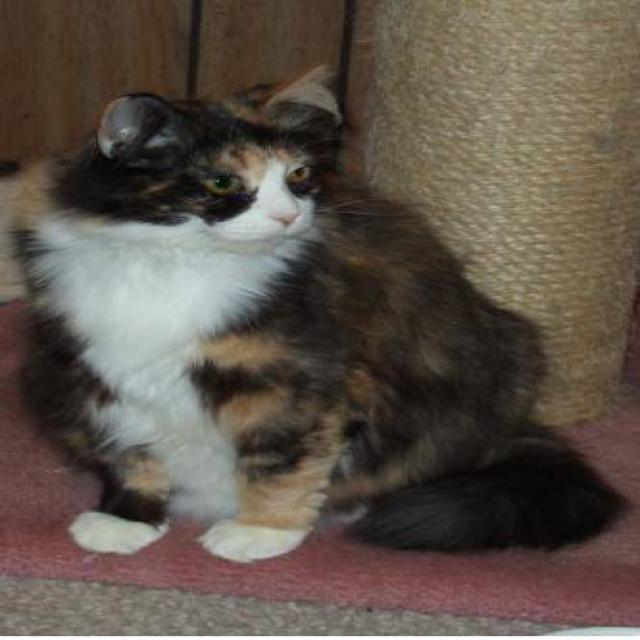cat: (0, 62, 630, 564)
